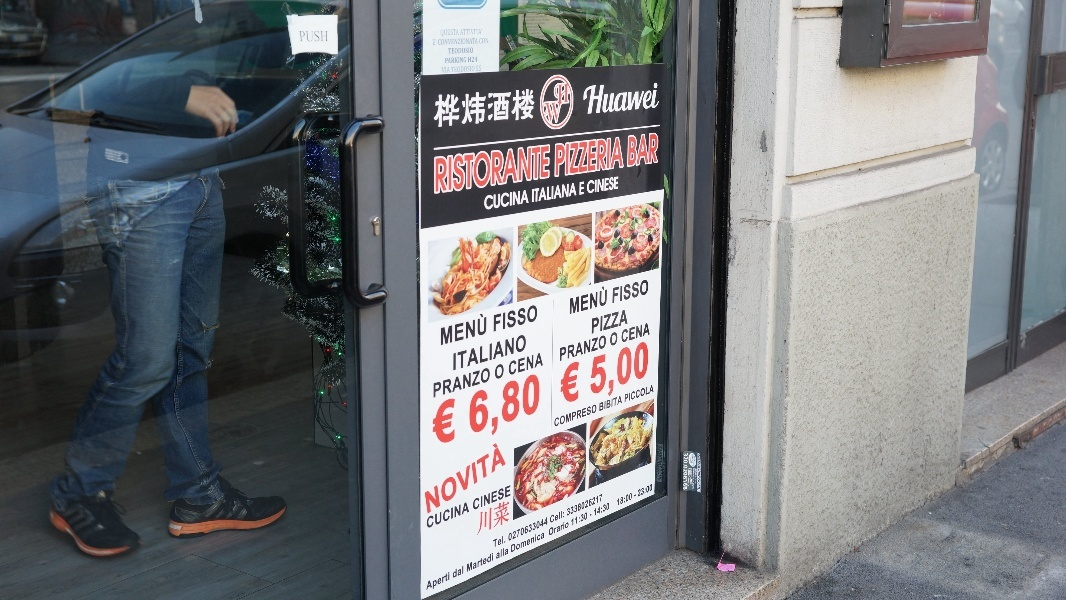text: (449, 371, 464, 461), (465, 371, 480, 461), (481, 371, 496, 461), (497, 371, 512, 461), (513, 371, 528, 461), (434, 371, 448, 461), (529, 371, 542, 461), (433, 441, 448, 517), (449, 441, 464, 517), (465, 441, 480, 517), (481, 441, 496, 517), (561, 339, 576, 413), (577, 339, 592, 413), (593, 339, 608, 413), (609, 339, 624, 413), (625, 339, 640, 413), (449, 140, 464, 196), (465, 140, 480, 196), (481, 140, 496, 196), (497, 140, 512, 196), (513, 140, 528, 196), (529, 140, 544, 196), (434, 140, 448, 196), (545, 72, 560, 123), (497, 441, 507, 517), (561, 72, 575, 123), (609, 136, 625, 179), (641, 339, 650, 413), (561, 136, 576, 179), (577, 136, 592, 179), (593, 136, 608, 179), (424, 441, 432, 517), (449, 89, 464, 128), (465, 89, 480, 128), (481, 89, 496, 128), (497, 89, 512, 128), (513, 89, 528, 128), (465, 333, 480, 371), (481, 333, 496, 371), (497, 333, 512, 371), (641, 132, 656, 169), (481, 500, 496, 536), (513, 333, 527, 371), (449, 313, 464, 347), (465, 313, 480, 347), (435, 89, 448, 128), (497, 500, 511, 536), (593, 82, 608, 115), (609, 82, 624, 115), (625, 82, 640, 115), (641, 82, 656, 115), (433, 367, 448, 399), (449, 367, 464, 399), (465, 367, 480, 399), (577, 284, 592, 316), (593, 284, 608, 316), (659, 446, 672, 482), (545, 140, 553, 196), (628, 132, 640, 169), (497, 305, 512, 334), (513, 305, 528, 334), (561, 334, 576, 363), (577, 334, 592, 363), (481, 484, 496, 512), (497, 484, 512, 512), (453, 333, 464, 371), (529, 352, 545, 378), (593, 334, 607, 363), (433, 502, 448, 529), (449, 502, 464, 529), (593, 309, 608, 336), (609, 309, 624, 336), (513, 516, 528, 543), (529, 516, 544, 543), (513, 352, 528, 378), (625, 279, 640, 305), (561, 403, 576, 429), (577, 403, 592, 429), (577, 493, 592, 518), (529, 531, 545, 554), (625, 322, 640, 345), (513, 531, 528, 554), (433, 572, 448, 595), (497, 190, 512, 212), (513, 190, 528, 212), (481, 367, 491, 399), (545, 183, 560, 204), (561, 183, 576, 204), (612, 279, 624, 305), (593, 176, 608, 196), (529, 305, 539, 334), (609, 395, 624, 413), (625, 385, 640, 403), (610, 330, 624, 349), (467, 553, 480, 573), (481, 553, 494, 573), (532, 183, 544, 204), (593, 493, 603, 518), (485, 190, 496, 212), (693, 468, 704, 490), (441, 313, 448, 347), (481, 313, 488, 347), (641, 279, 650, 305), (641, 385, 654, 403), (691, 468, 704, 486), (529, 89, 535, 128), (585, 82, 592, 115), (641, 322, 651, 345), (698, 454, 704, 492), (567, 493, 576, 518), (569, 284, 576, 316), (609, 176, 620, 196), (555, 136, 560, 179), (594, 502, 608, 517), (549, 520, 560, 538), (473, 484, 480, 512), (657, 132, 662, 169), (553, 403, 560, 429), (580, 181, 592, 196), (641, 484, 653, 498), (305, 31, 320, 42), (577, 512, 588, 527), (599, 395, 608, 413), (561, 520, 570, 538), (497, 547, 509, 560), (692, 454, 704, 467), (549, 510, 560, 524), (541, 72, 544, 123), (695, 468, 704, 485), (684, 453, 688, 491), (453, 566, 464, 579), (497, 535, 507, 549), (497, 363, 505, 380), (427, 502, 432, 529), (465, 502, 470, 529), (593, 403, 598, 429), (664, 460, 672, 476), (465, 28, 480, 36), (433, 38, 448, 46), (449, 38, 464, 46), (449, 47, 464, 55), (449, 57, 464, 65), (625, 492, 633, 507), (465, 38, 479, 46), (625, 309, 629, 336), (508, 516, 512, 543), (617, 492, 624, 507), (451, 66, 464, 74), (449, 29, 460, 38), (657, 82, 660, 115), (690, 457, 704, 464), (428, 572, 432, 595), (465, 66, 476, 74), (545, 516, 548, 543), (695, 456, 704, 465), (588, 176, 592, 196), (321, 31, 328, 42), (571, 512, 576, 527), (465, 47, 474, 55), (468, 57, 480, 63), (481, 38, 491, 45), (441, 29, 448, 38), (494, 305, 496, 334), (561, 510, 565, 524), (299, 31, 304, 42), (510, 352, 512, 378), (622, 322, 624, 345), (449, 572, 451, 595), (442, 67, 448, 74), (493, 535, 496, 549), (689, 468, 691, 488), (479, 500, 480, 536), (559, 334, 560, 363), (638, 484, 640, 498), (591, 309, 592, 336), (461, 28, 464, 36), (445, 57, 448, 65), (634, 494, 640, 498), (511, 531, 512, 554), (529, 190, 530, 212), (477, 65, 480, 72), (577, 183, 578, 204), (495, 363, 496, 380), (481, 28, 483, 36), (465, 57, 467, 65), (609, 502, 610, 517), (449, 67, 451, 74), (479, 38, 480, 45), (481, 65, 482, 72), (590, 514, 592, 517)
